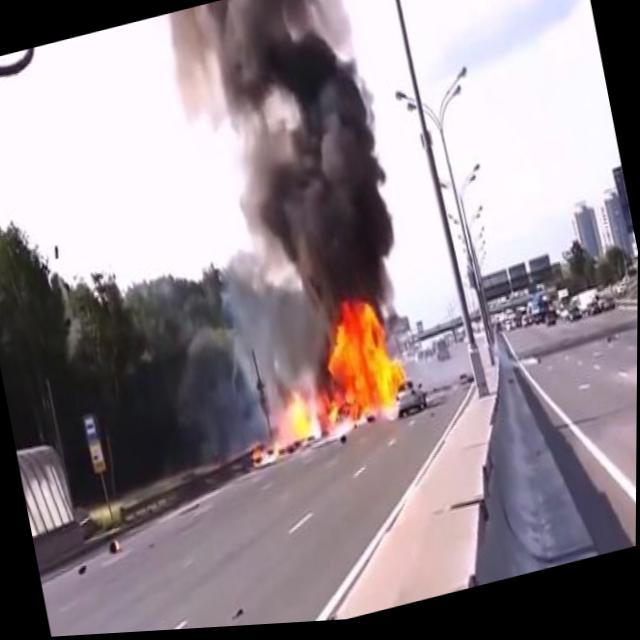fire: (305, 288, 418, 443), (285, 392, 319, 451), (251, 445, 270, 466)
